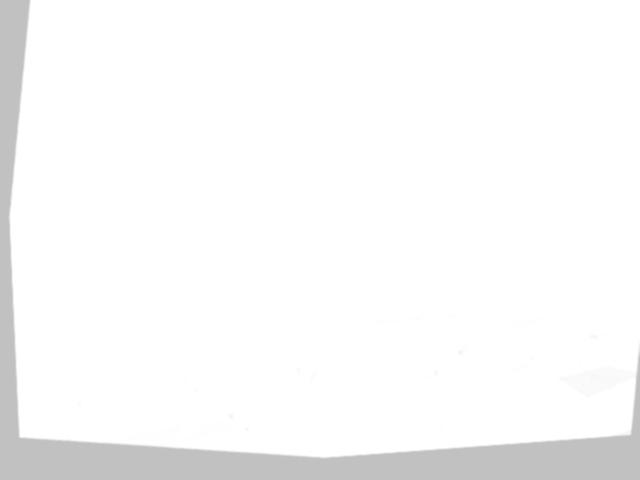hedef: (212, 302, 396, 435)
